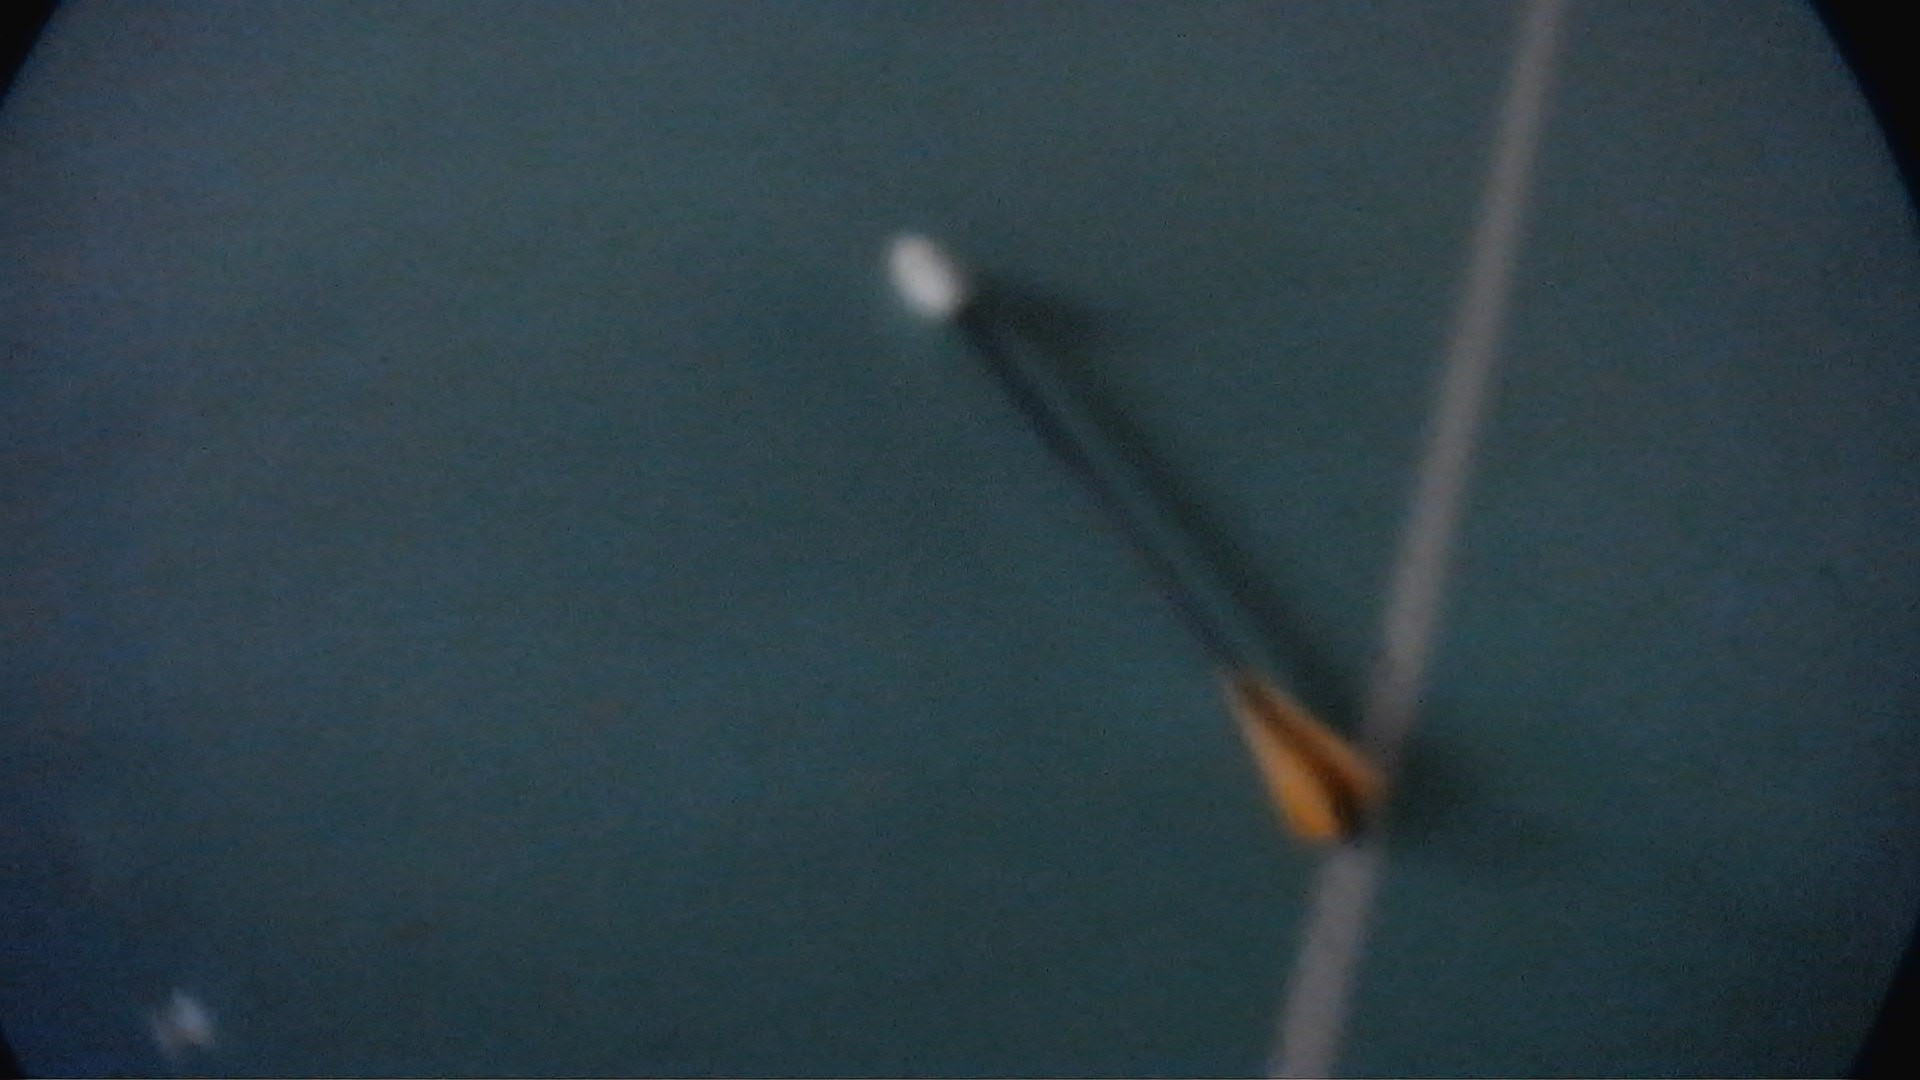arrow: (882, 228, 1386, 847)
arrowFront: (885, 228, 977, 330)
